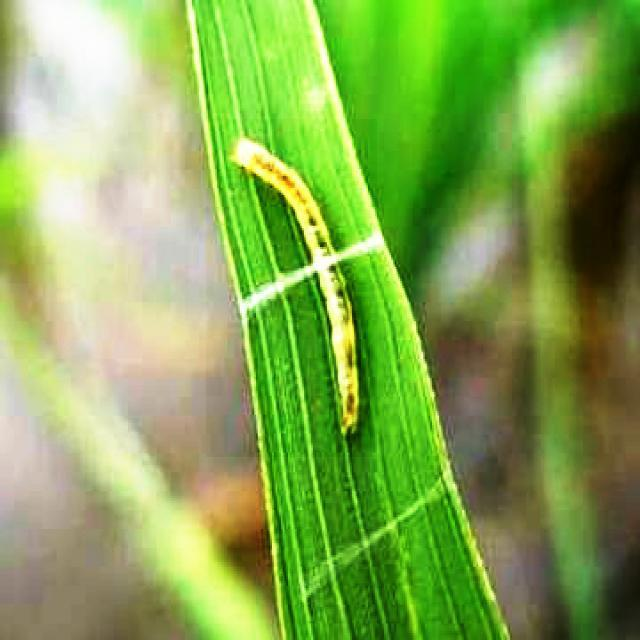leaf-folder: (206, 120, 377, 458)
